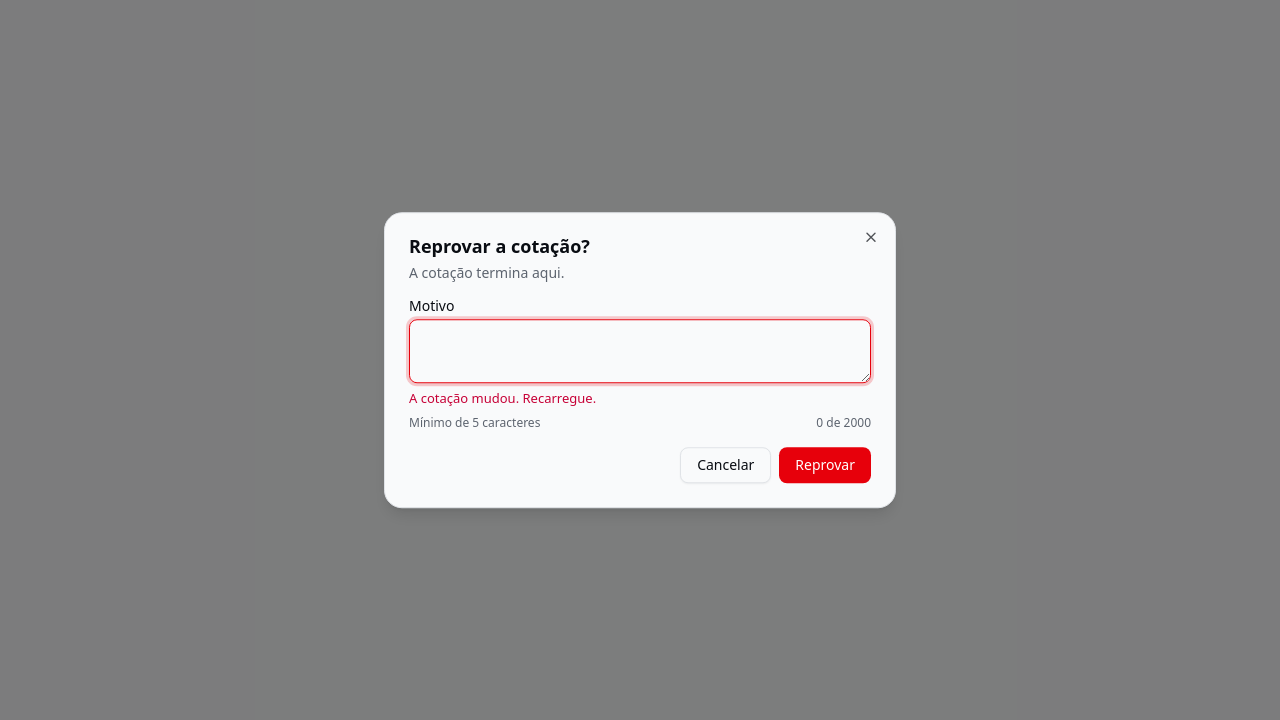
DialogMotivo (AC-11) › o erro do servidor some quando você edita o texto e é anunciado (role alert)
The width and height of the screenshot is (1280, 720).
Expected: the message reads "A cotação mudou. Recarregue.", [409,389,596,407]
Type "x" into the text box labelled "Motivo". click: (640, 351)
box: [409,319,871,383]
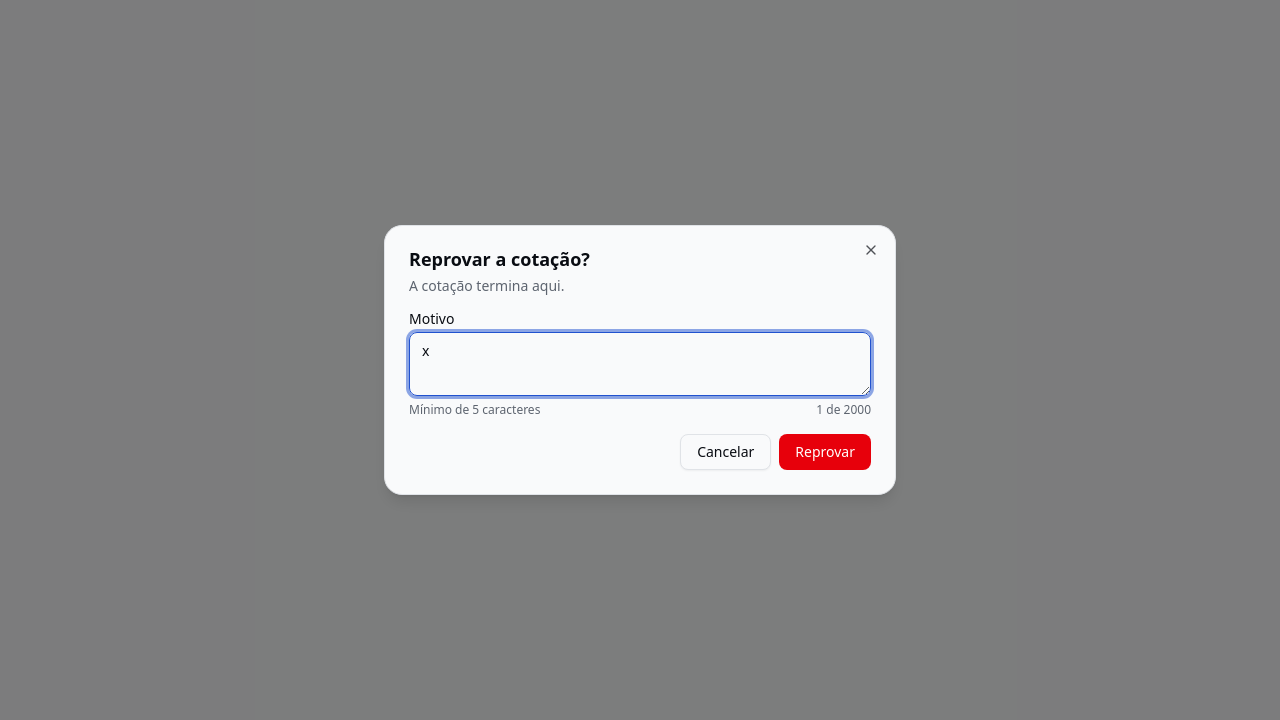
Expected: the message "A cotação mudou. Recarregue." is gone
